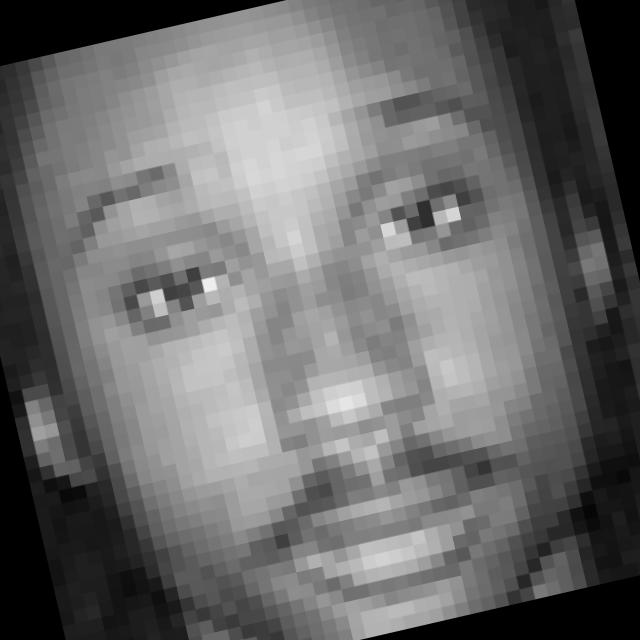neutral: (41, 61, 605, 640)
